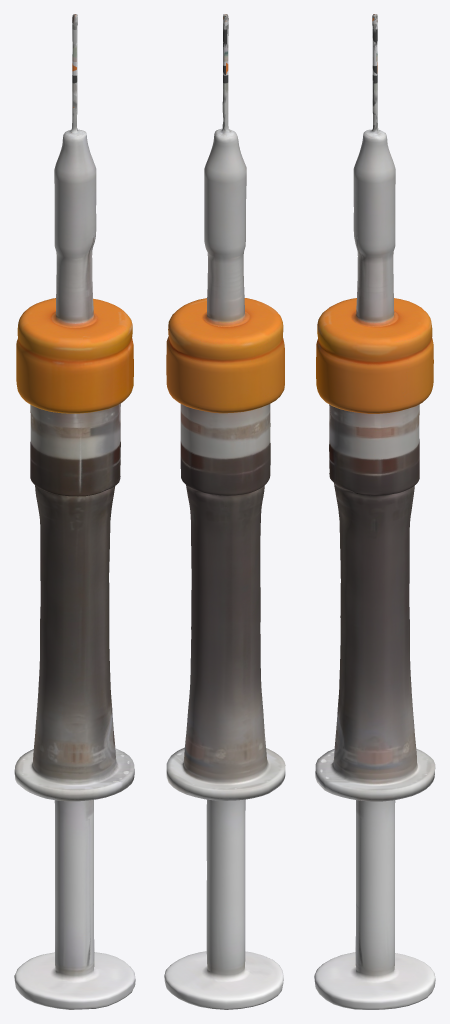
The model's file is vaccine_needle.glb.
The picture shows the model from 3 angles, left to right: view 1: azimuth 90°, elevation 25°; view 2: azimuth 210°, elevation 25°; view 3: azimuth 270°, elevation 25°; orthographic projection.
Size of the model in its own units: 0.2212 by 2 by 0.2259.
1 material, 1 textured.
